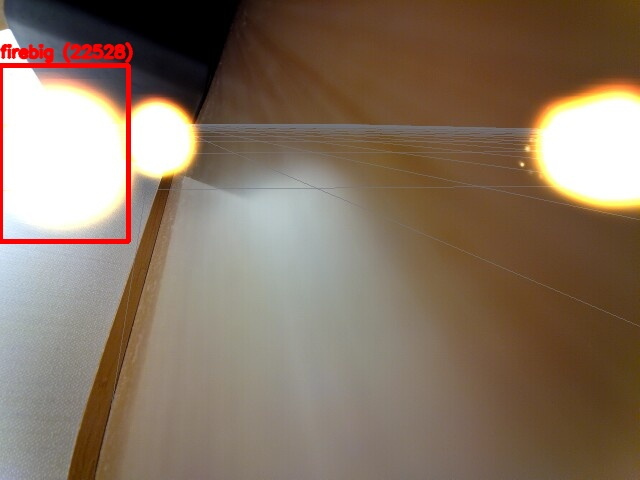firebig: (0, 65, 128, 241)
